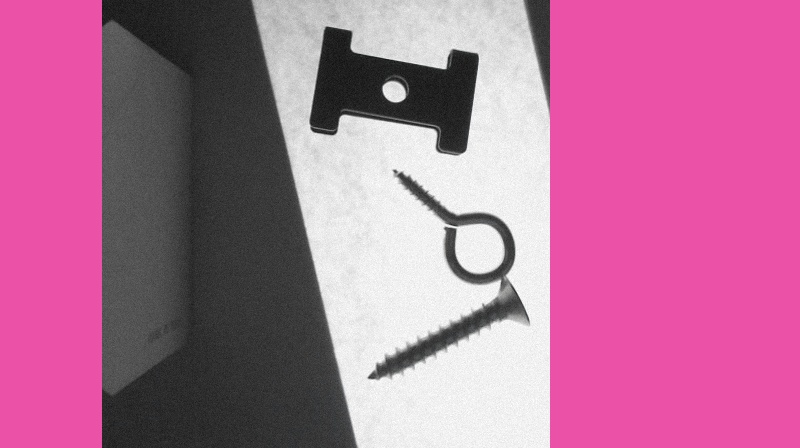O001: (388, 162, 519, 282)
O002: (307, 22, 482, 155)
S001: (364, 276, 531, 382)
